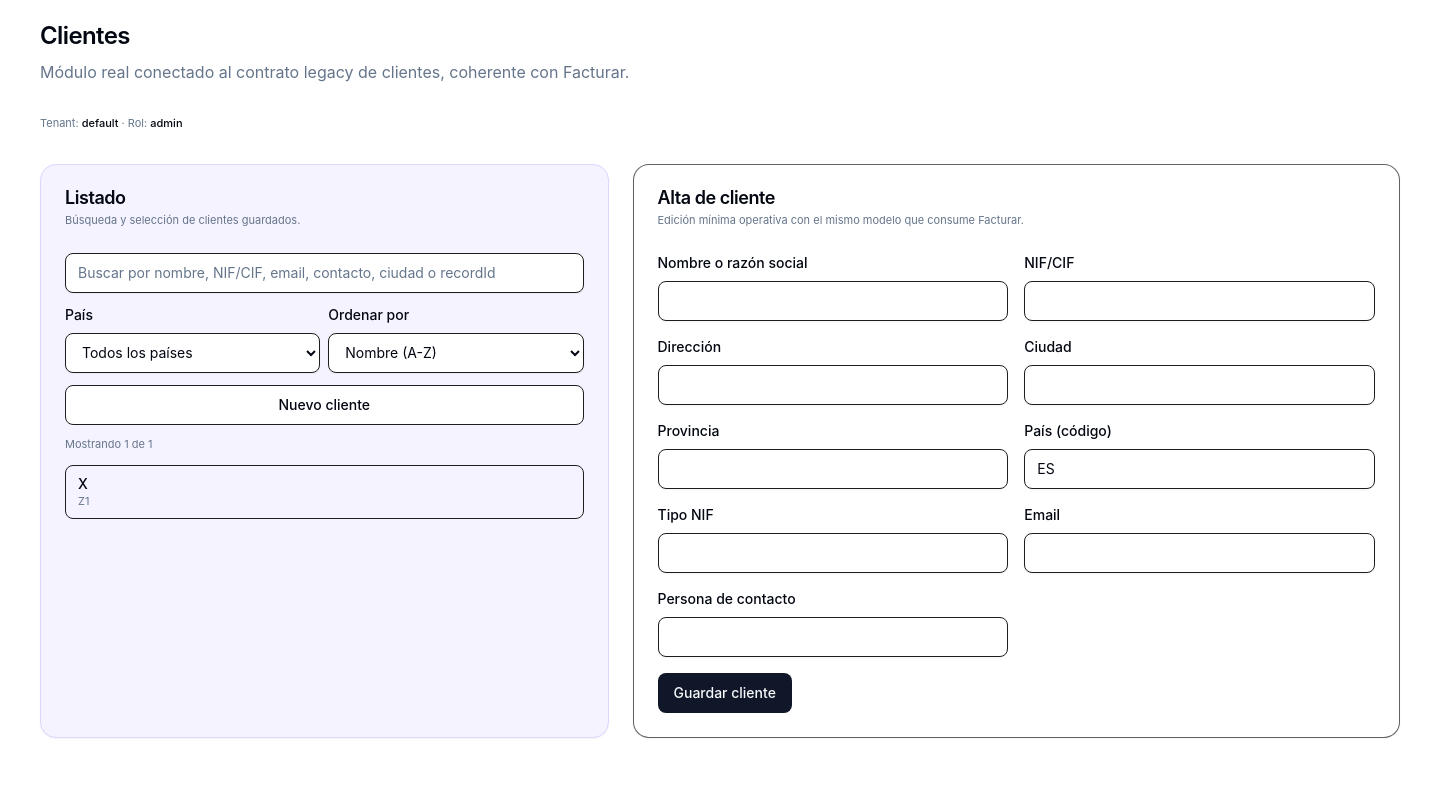
Test case: ClientsPage regression › admin can use Archivar cliente (editor-style scope)
This screenshot has width=1440, height=810.
Step 1. Click the text "X" → click(83, 483), box 78,475 -> 88,492
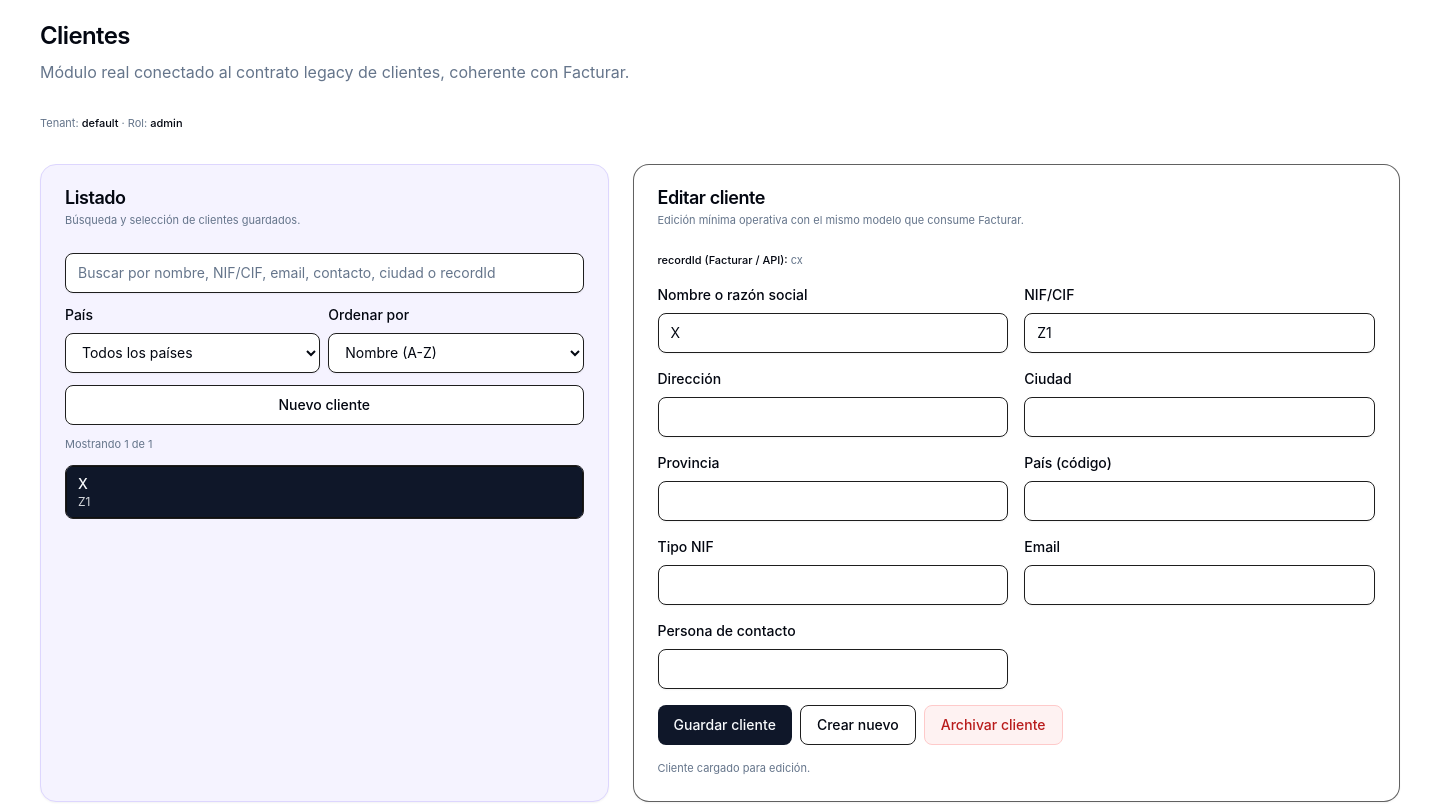
Expected: the button "Archivar cliente" is enabled, 924,705 -> 1063,745
